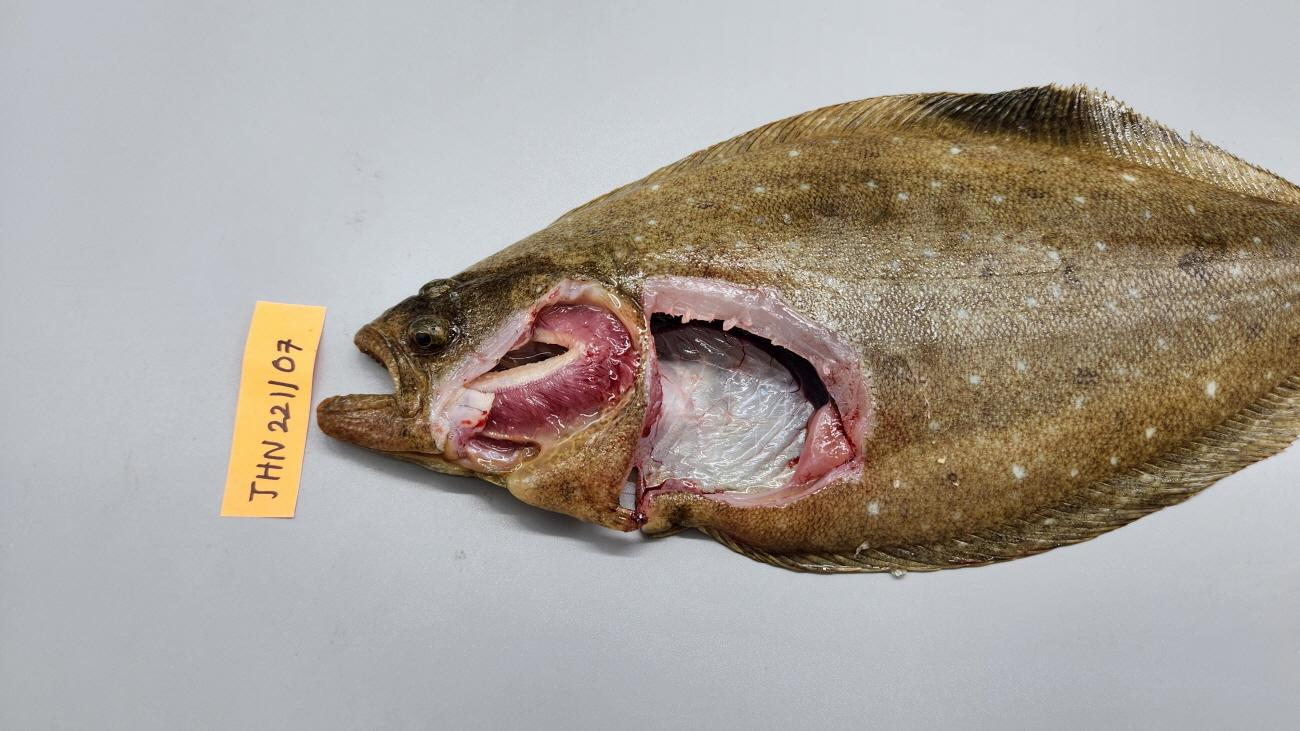POASN: (639, 326, 813, 492)
POKIN: (650, 311, 828, 410)
POREN: (701, 394, 853, 507)
